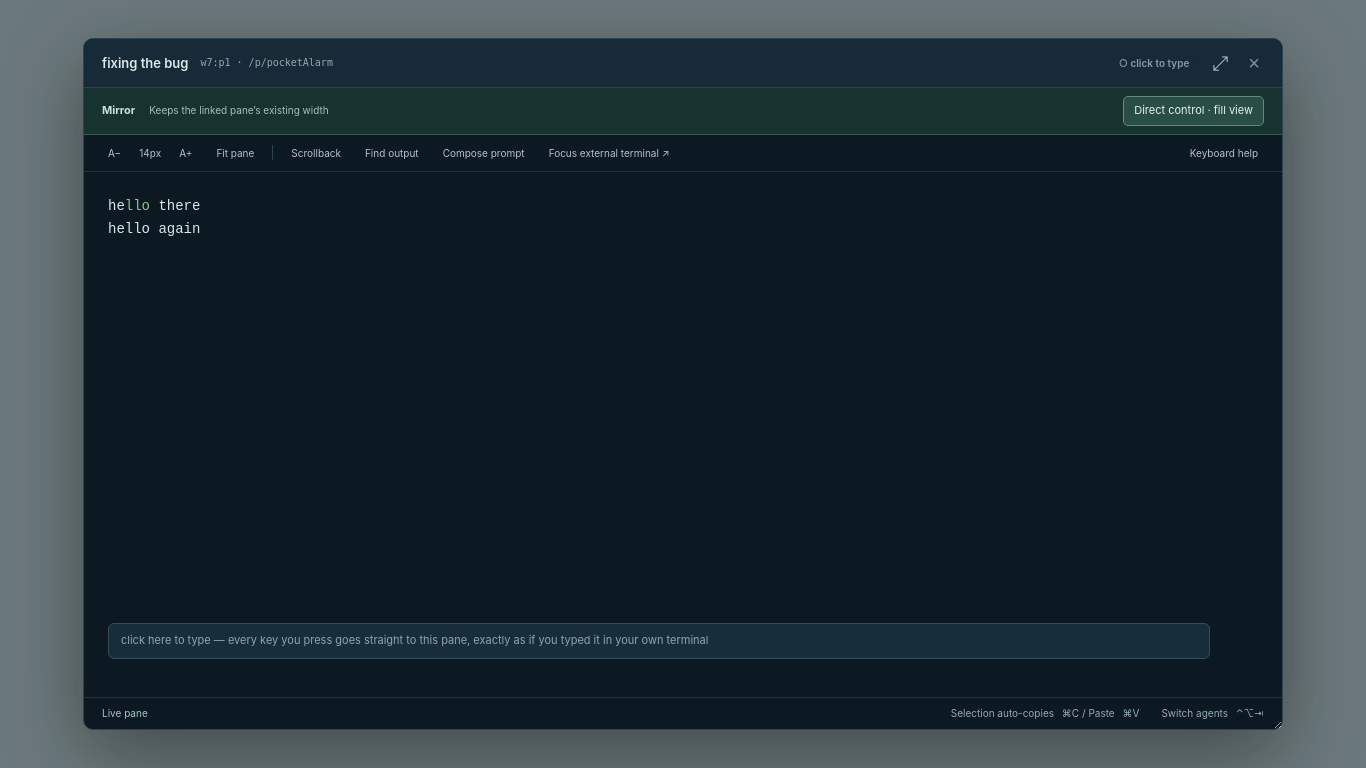
Test: terminal output tools › finds visible text across ANSI runs and navigates matches without changing pane output
This screenshot has width=1366, height=768.
Expected: the text "llo" is shown, [125,198,150,214]
Click the button "Find output" at (392, 153), box [359,142,425,164]
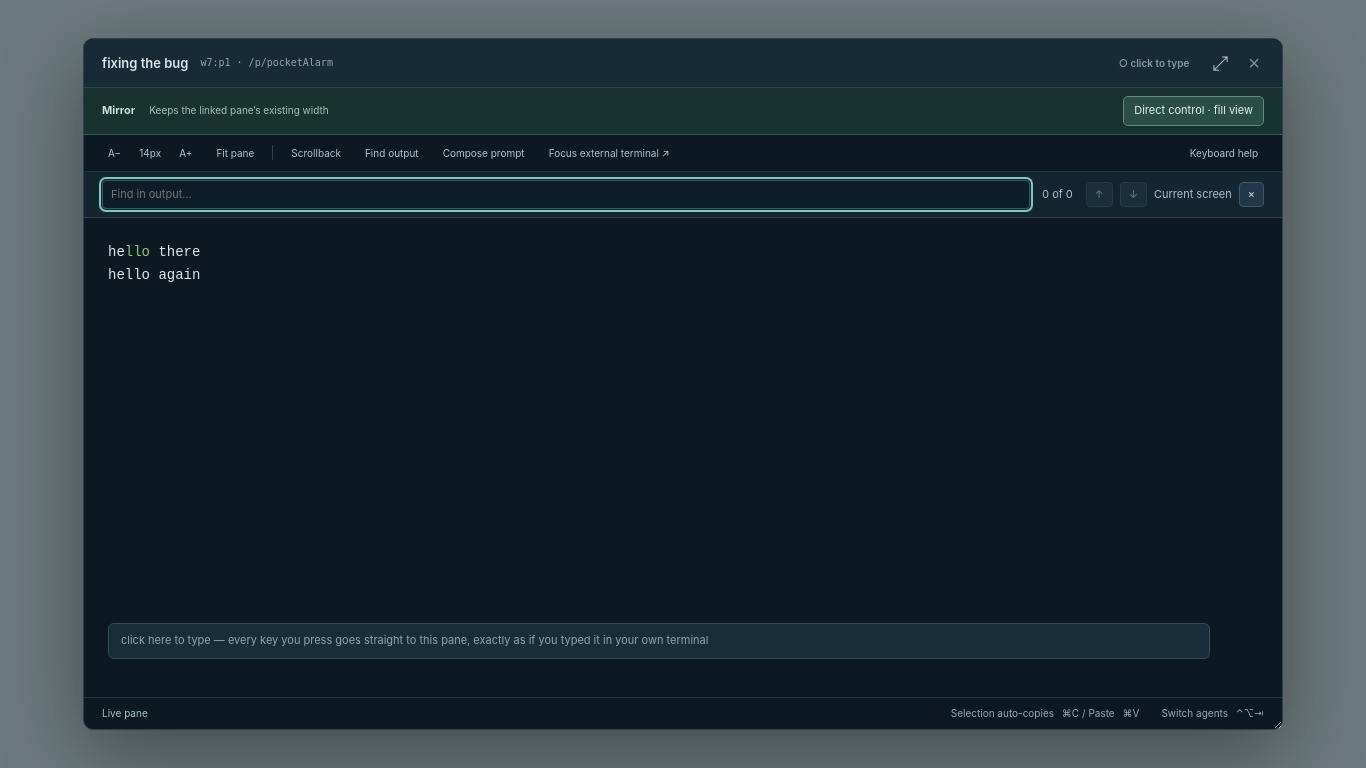
Type "HELLO" into the search field labelled "Find in output" at (566, 194), box [102,180,1030,209]
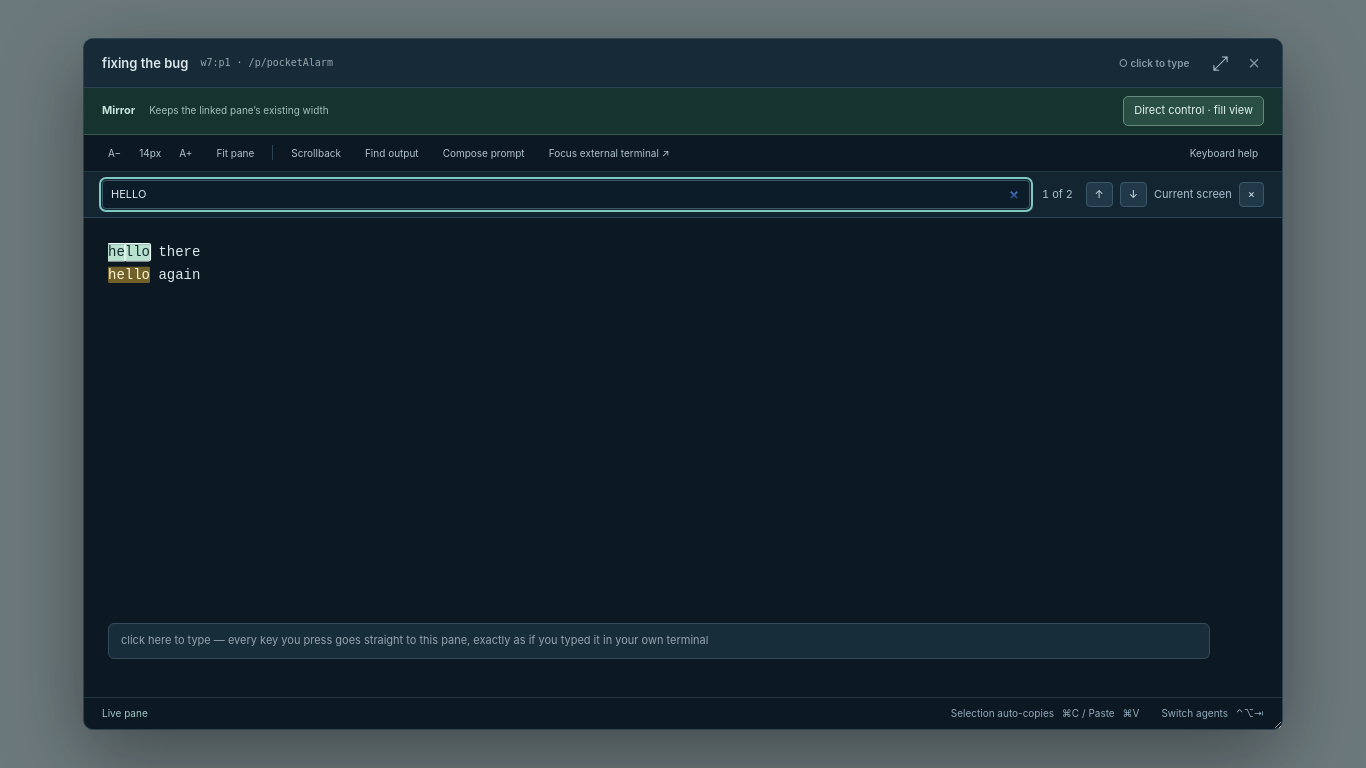
Expected: the text "hello" is shown, [108,267,150,283]
Result: the text named "Output match" reads "1 of 2" at [1042,187,1073,201]
Click the button named "Next match" at (1133, 194), box [1120,182,1147,207]
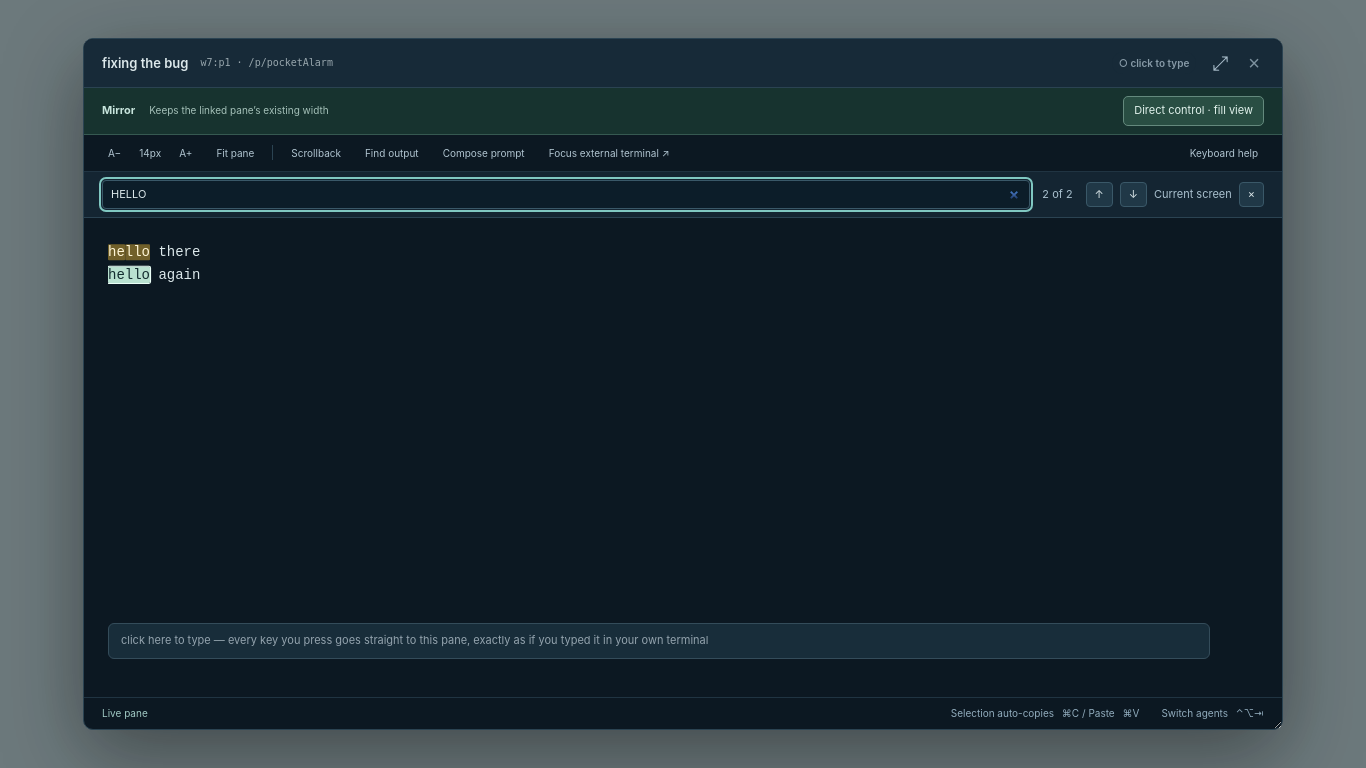
Result: the text named "Output match" reads "2 of 2" at [1042,187,1073,201]
Press Enter in the search field named "Find in output", box [102,180,1030,209]
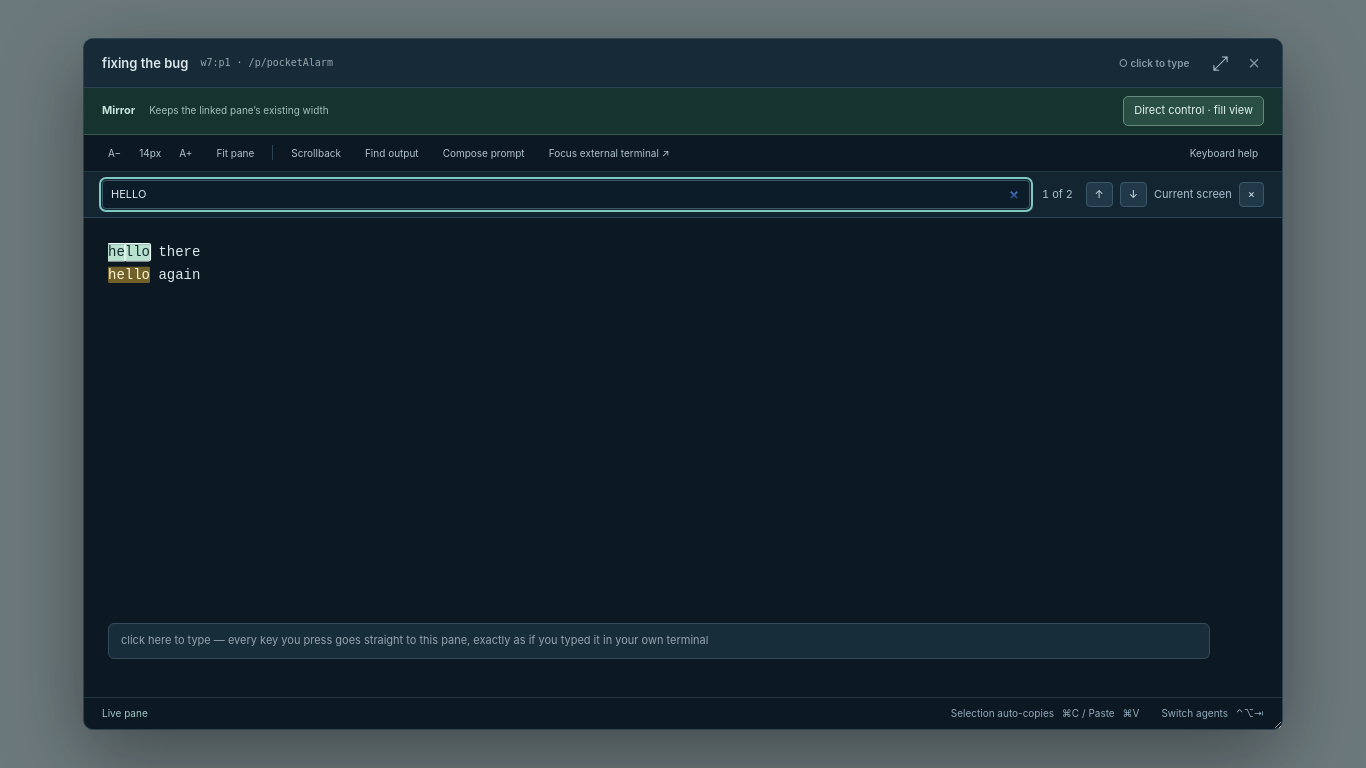
Result: the text named "Output match" reads "1 of 2" at [1042,187,1073,201]
Click the button named "Previous match" at (1099, 194), box [1086,182,1113,207]
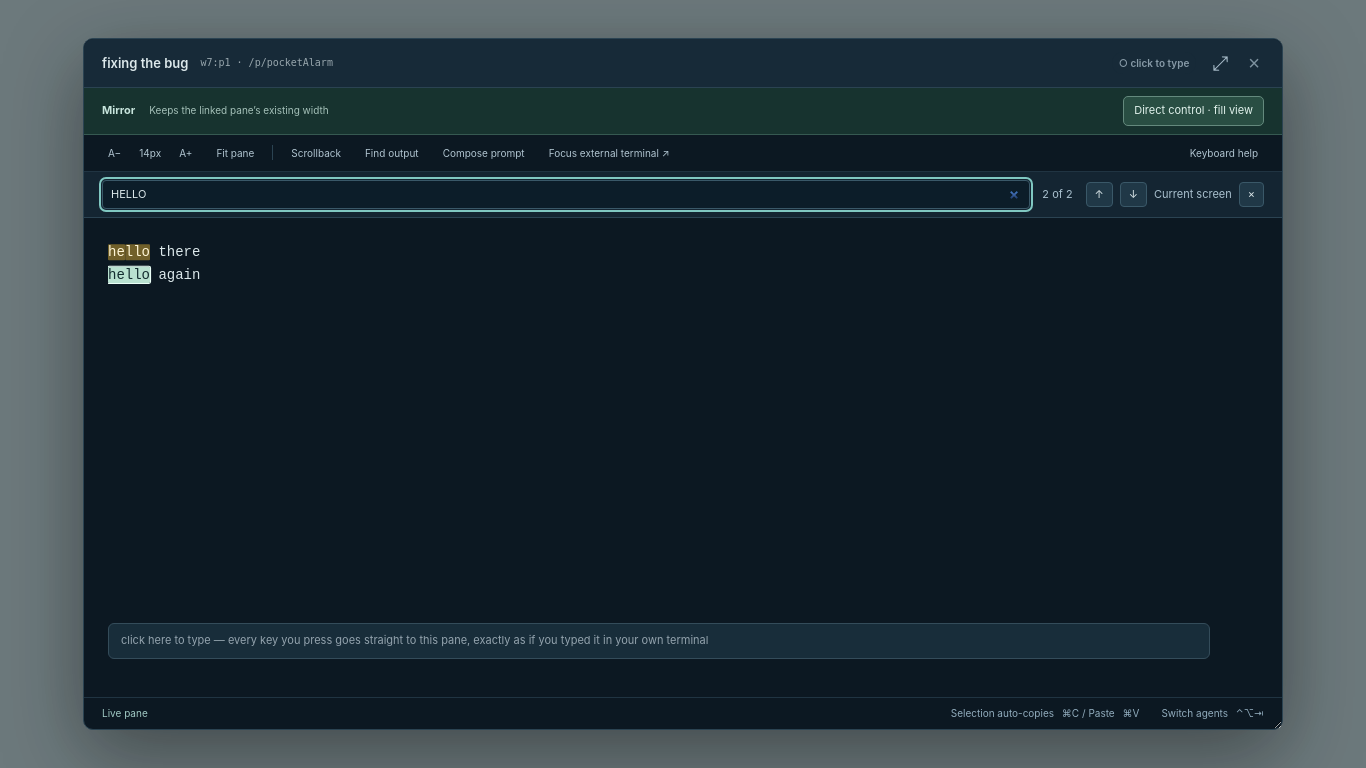
Result: the text named "Output match" reads "2 of 2" at [1042,187,1073,201]
